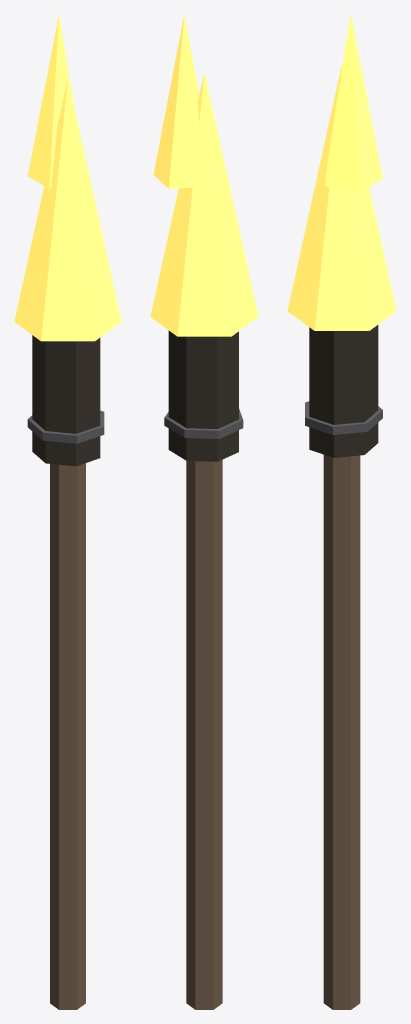
File: torch.glb
The picture shows the model from 3 angles, left to right: view 1: azimuth 90°, elevation 25°; view 2: azimuth 150°, elevation 25°; view 3: azimuth 270°, elevation 25°; orthographic projection.
Visible parts, largest first — view 1: torch; view 2: torch; view 3: torch.
Part boxes in pixels (box(x1,y1,x2,y2)): torch: box(14, 15, 121, 1009); torch: box(150, 15, 258, 1009); torch: box(287, 14, 396, 1009).
Bounding box in the file's own units: 0.1052 × 1.21 × 0.12.
